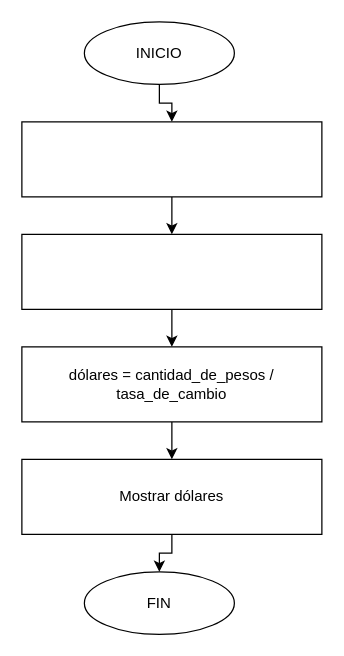
Image size: 344x656. Some labels were removed from this diagram. The shapes that lost their labels are listed below. From the top down, each one's box as (x1, y1, x2, y2) in pixels, then its label:
(21, 121, 322, 197): Leer cantidad_de_pesos (COP)
(21, 233, 322, 309): Leer tasa_de_cambio (COP/USD)
